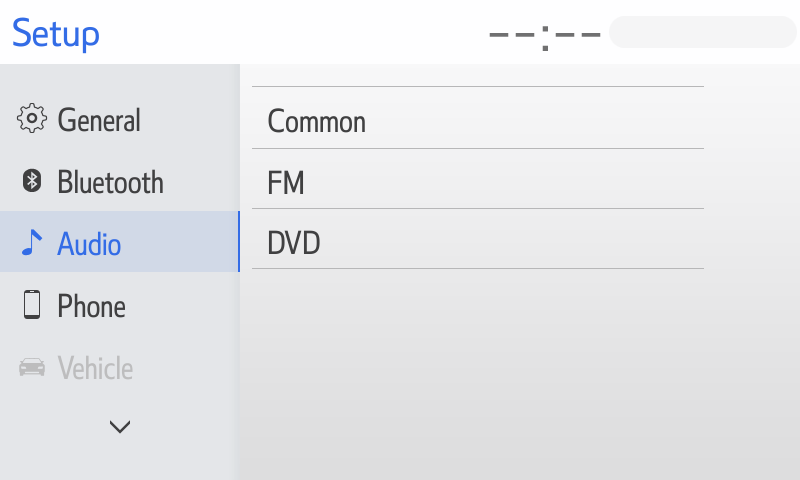touchPart: (252, 81, 706, 151), (252, 145, 705, 214), (253, 206, 708, 273), (13, 98, 146, 139), (17, 165, 166, 201), (22, 286, 129, 322), (103, 410, 136, 440)
untouchPart: (1, 207, 241, 275), (479, 9, 800, 57), (16, 351, 150, 385), (11, 15, 101, 55)
